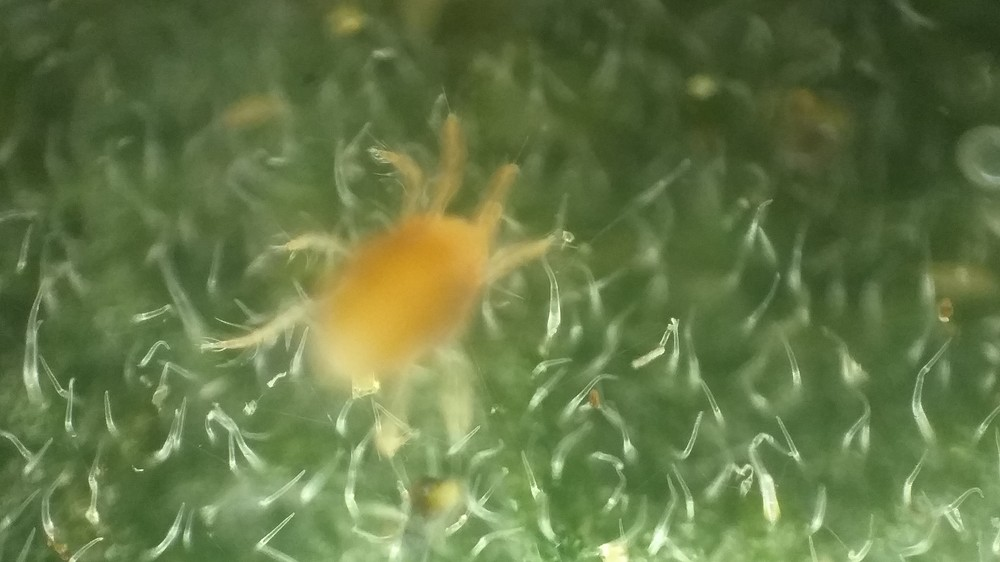Aracnido Rojo: (201, 83, 609, 477)
